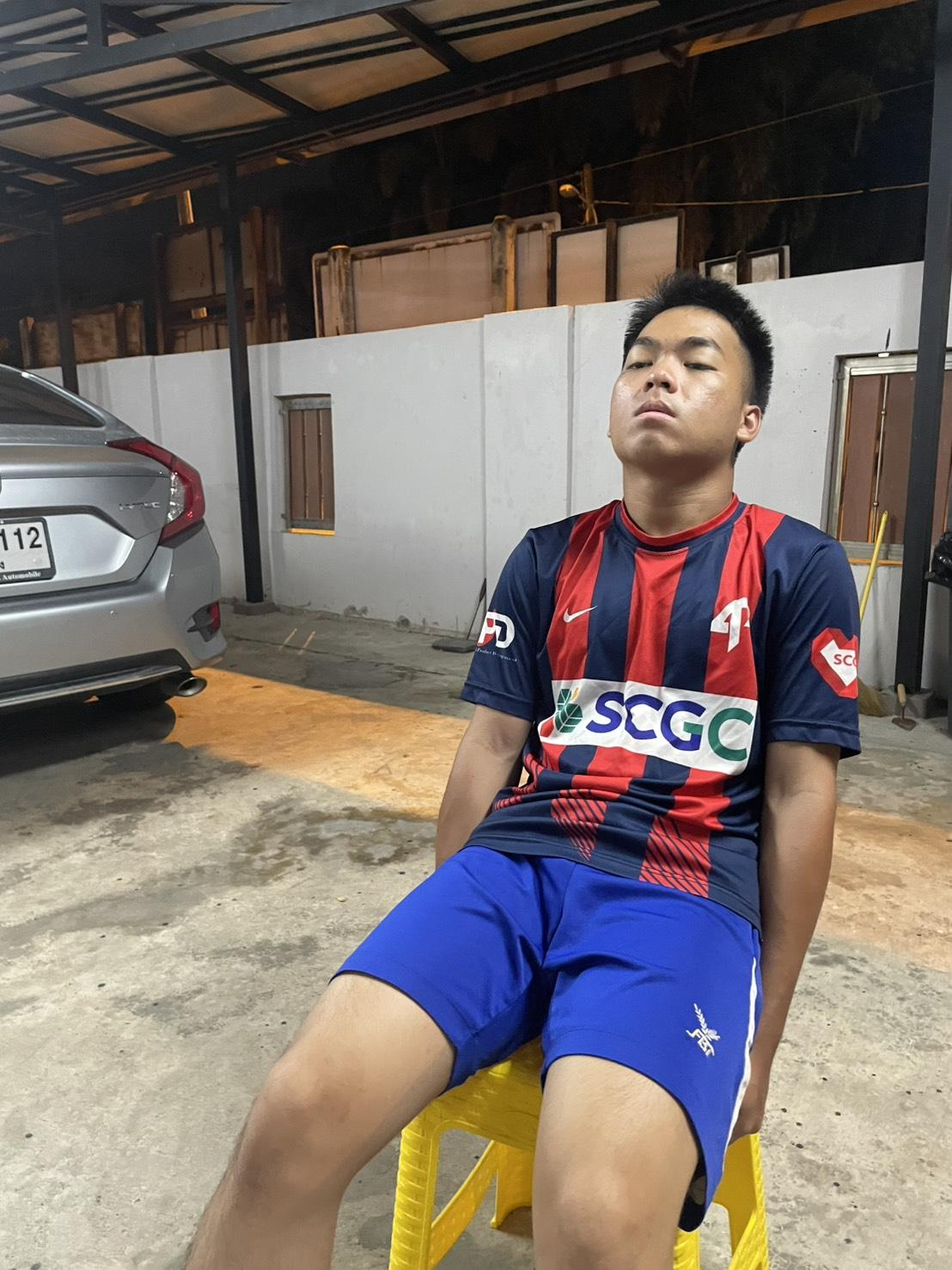BadPosture: (464, 273, 859, 923)
